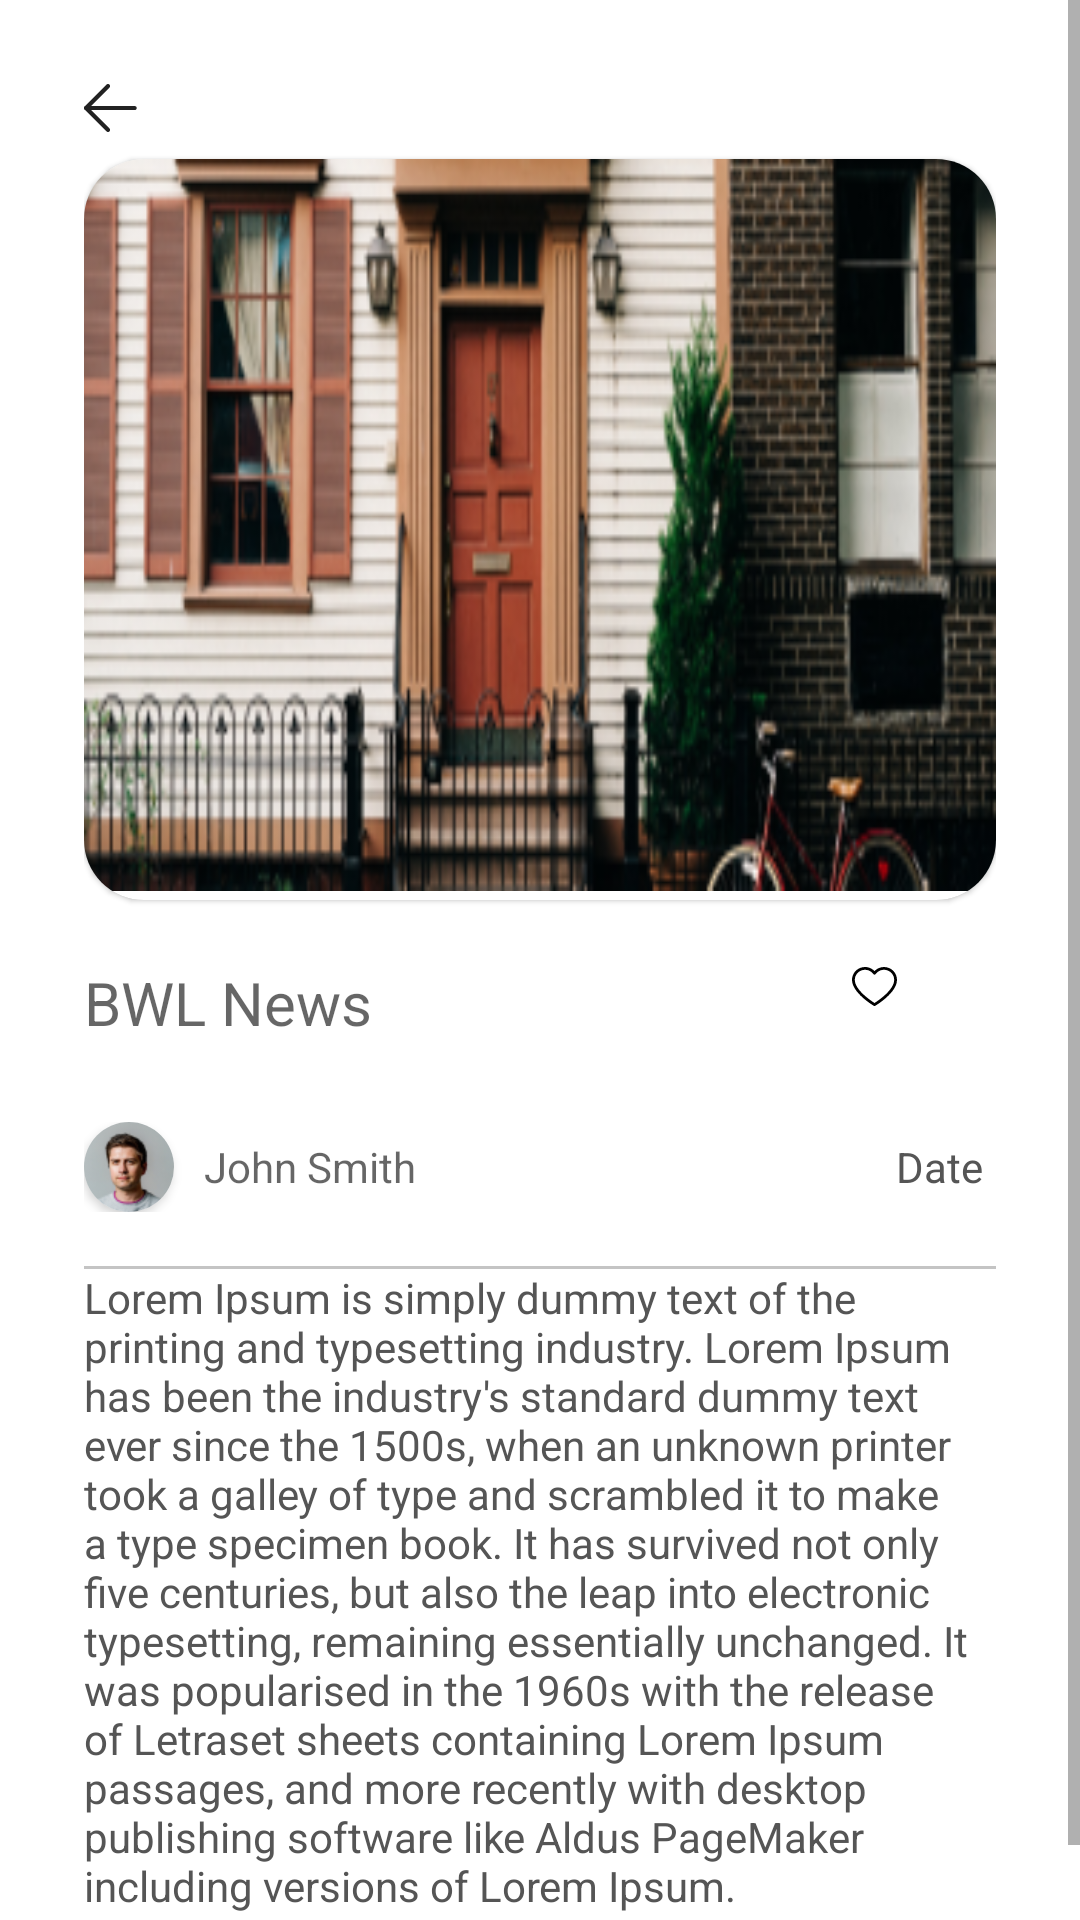

Named icons in this screenshot (1080x1920) and their bounding boxes, [x1, y1, x2, y2]:
arrow: [84, 84, 137, 132]
favorites: [852, 967, 897, 1006]
User picture: [84, 1122, 174, 1212]
